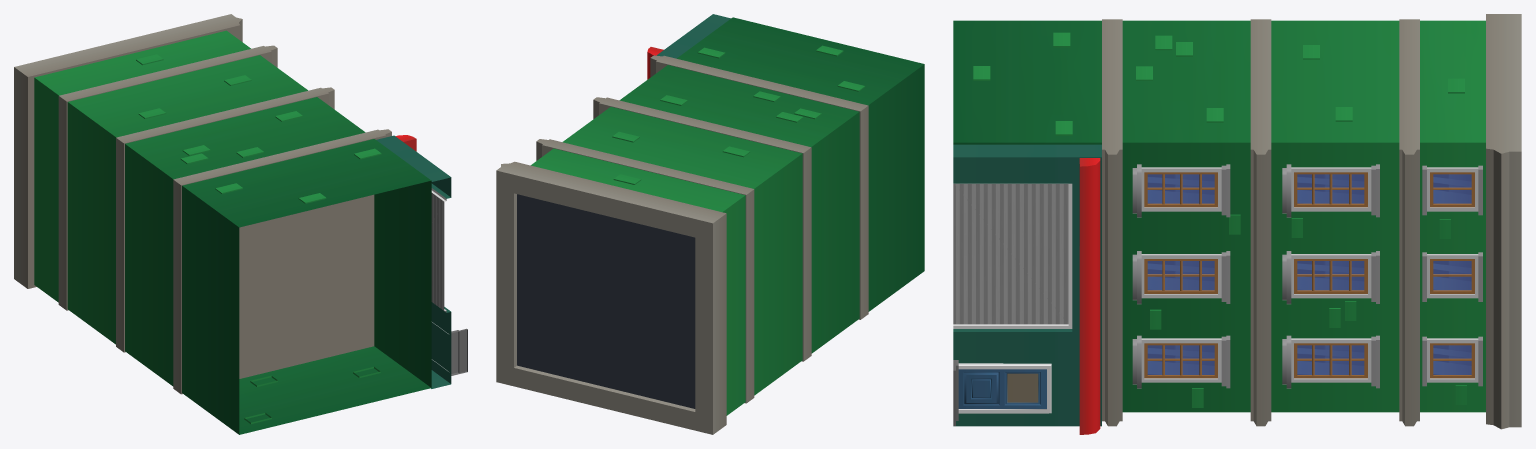
The model's file is Building_19_1_C.glb.
3 renders of one model, left to right at view 1: azimuth 30°, elevation 25°; view 2: azimuth 150°, elevation 25°; view 3: azimuth 270°, elevation 25°, orthographic. The views are drawn at different scales.
Visible parts, largest first — view 1: Building_19_1_C; view 2: Building_19_1_C; view 3: Building_19_1_C.
Part boxes in pixels (x1,y1,x2,y2): Building_19_1_C: (14, 14, 467, 434); Building_19_1_C: (496, 14, 924, 434); Building_19_1_C: (953, 14, 1521, 434).
Bounding box in the file's own units: 7.74 × 6.67 × 12.47.
Materials: 3 (3 with a texture image).
